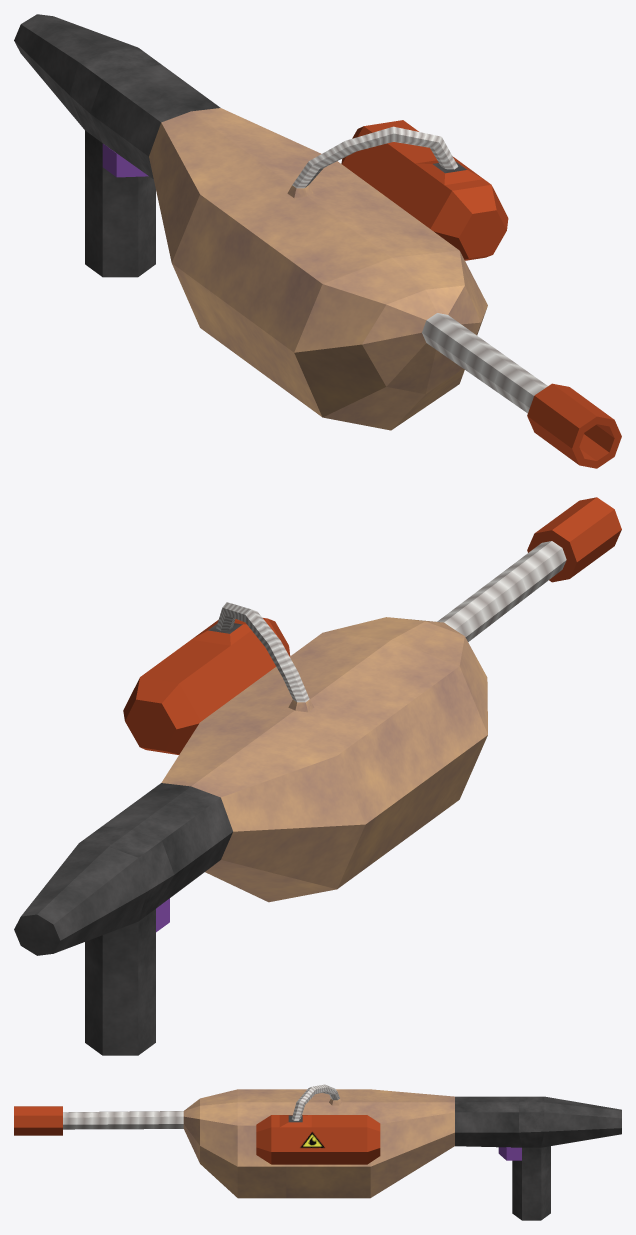
The model's file is flamer.fbx.
3 renders of one model, top to bottom at view 1: azimuth 30°, elevation 25°; view 2: azimuth 150°, elevation 25°; view 3: azimuth 270°, elevation 25°, orthographic. The views are drawn at different scales.
Parts seen in each view (by area): view 1: Cube; view 2: Cube; view 3: Cube.
Part boxes in pixels (box(x1,y1,x2,y2)): Cube: box(14, 14, 621, 468); Cube: box(14, 497, 621, 1055); Cube: box(14, 1084, 621, 1220).
Size of the model in its own units: 33.59 by 35.09 by 133.
Materials: 1 (1 with a texture image).
